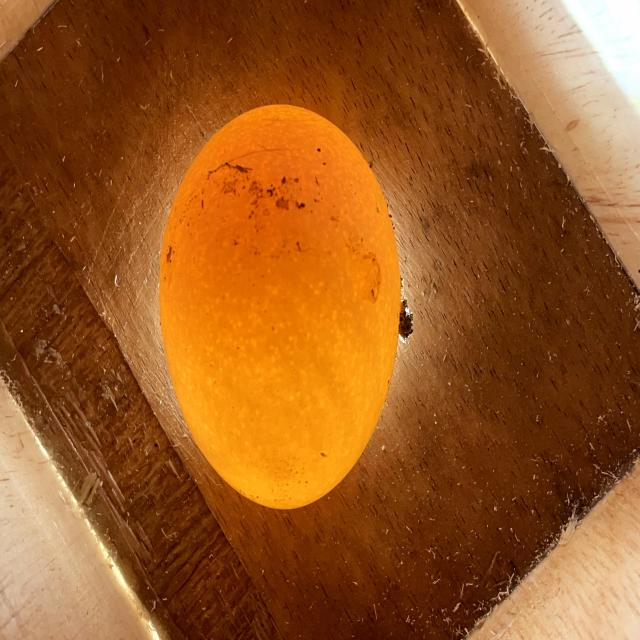infertile: (159, 105, 401, 508)
